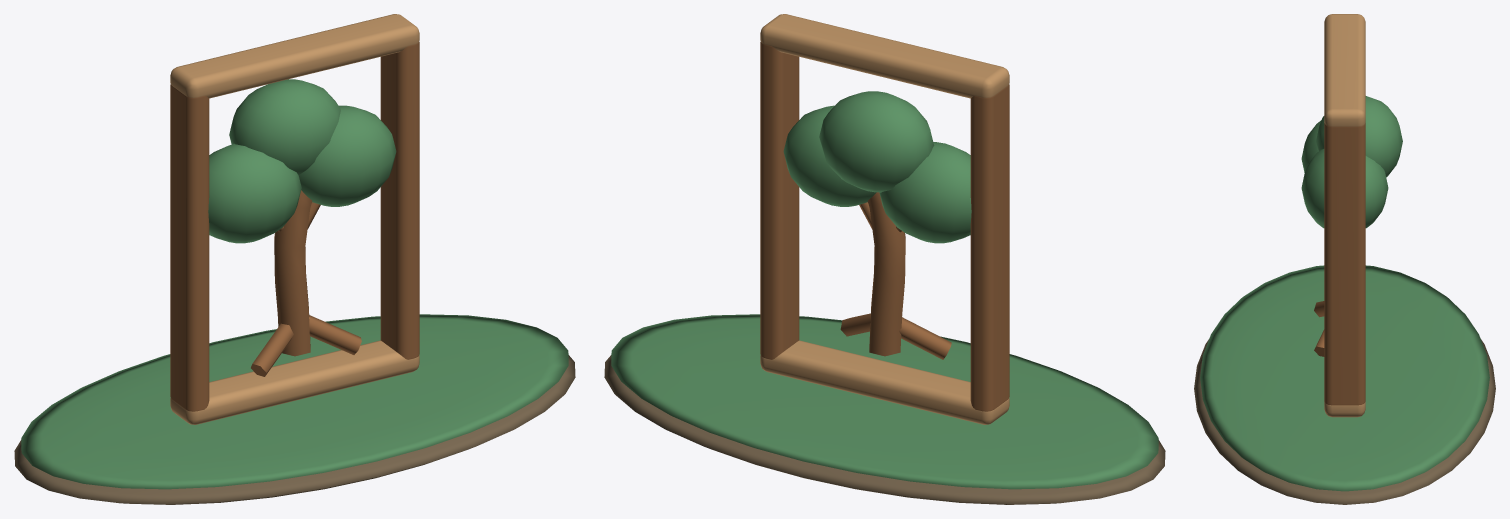
The model's file is sleepy-tree.glb.
3 views of the same model, side by side, from view 1: azimuth 30°, elevation 25°; view 2: azimuth 150°, elevation 25°; view 3: azimuth 270°, elevation 25° (orthographic). The views are drawn at different scales.
Parts seen in each view (by area): view 1: sleepy-tree_surface_01, sleepy-tree_surface_02, sleepy-tree_surface_03, sleepy-tree_surface_00; view 2: sleepy-tree_surface_01, sleepy-tree_surface_02, sleepy-tree_surface_03, sleepy-tree_surface_00; view 3: sleepy-tree_surface_01, sleepy-tree_surface_02, sleepy-tree_surface_00, sleepy-tree_surface_03.
Boxes of the visible parts, <box> form: sleepy-tree_surface_01: <box>21,79,568,489</box>; sleepy-tree_surface_02: <box>170,42,419,411</box>; sleepy-tree_surface_03: <box>170,14,419,424</box>; sleepy-tree_surface_00: <box>14,355,575,504</box>; sleepy-tree_surface_01: <box>611,91,1158,489</box>; sleepy-tree_surface_02: <box>760,42,1009,411</box>; sleepy-tree_surface_03: <box>760,14,1009,424</box>; sleepy-tree_surface_00: <box>604,355,1165,504</box>; sleepy-tree_surface_01: <box>1200,96,1489,491</box>; sleepy-tree_surface_02: <box>1314,123,1365,405</box>; sleepy-tree_surface_00: <box>1194,339,1495,504</box>; sleepy-tree_surface_03: <box>1324,14,1365,417</box>.
Bounding box in the file's own units: 4.56 × 3.12 × 2.5.
